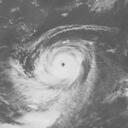cyclone: (34, 40, 94, 89)
